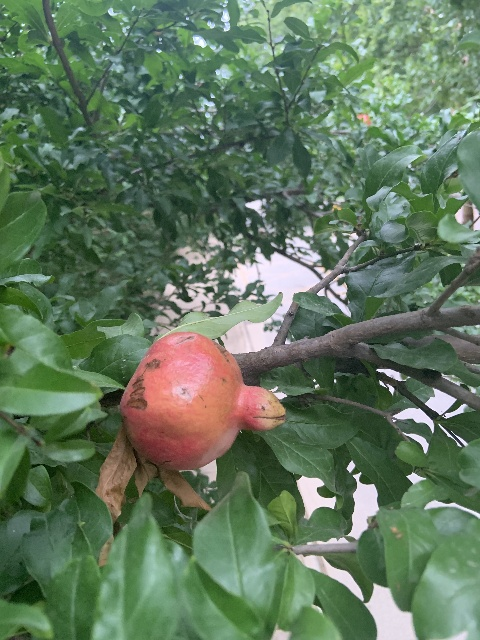ripe: (120, 331, 285, 471)
